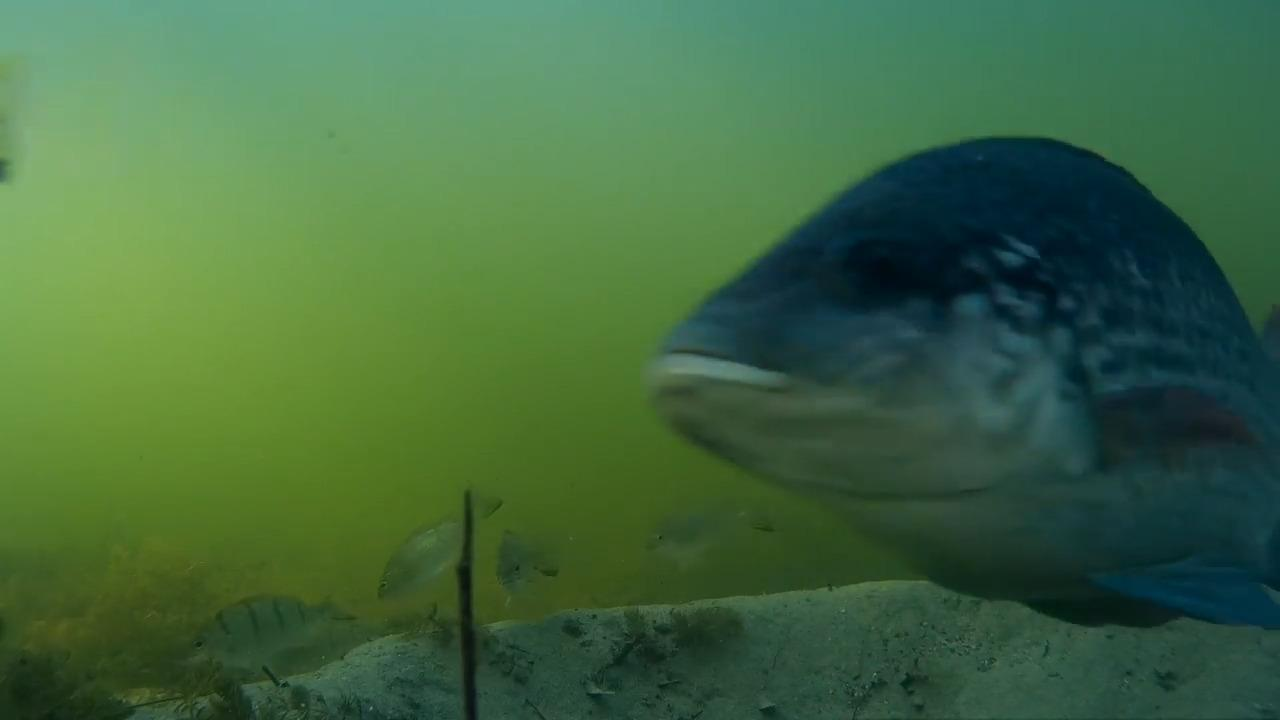Tilapia: (626, 104, 1280, 594), (151, 576, 348, 684), (601, 470, 778, 582), (361, 488, 490, 606), (489, 518, 576, 612)
